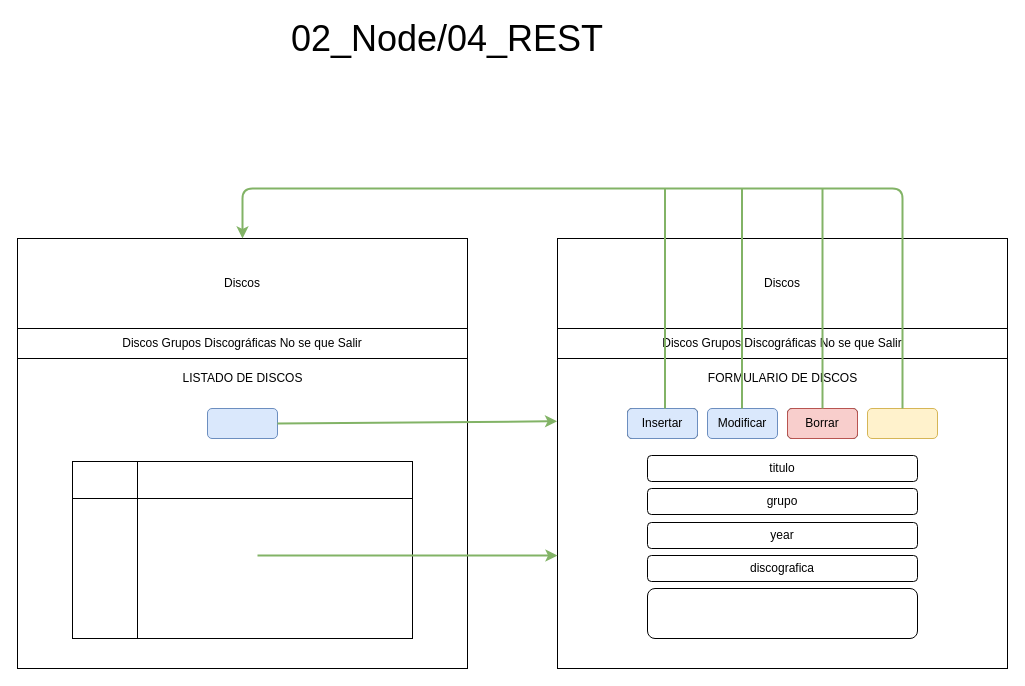
The diagram is 1025 pixels wide and 686 high, and some of its shapes have lost their labels. The shapes that lost their labels are listed below. From the top down, each one's centre as x and y in pixels, then its label:
At pixel 242 423: "Nuevo".
At pixel 902 423: "Volver".
At pixel 782 613: "comentario".
